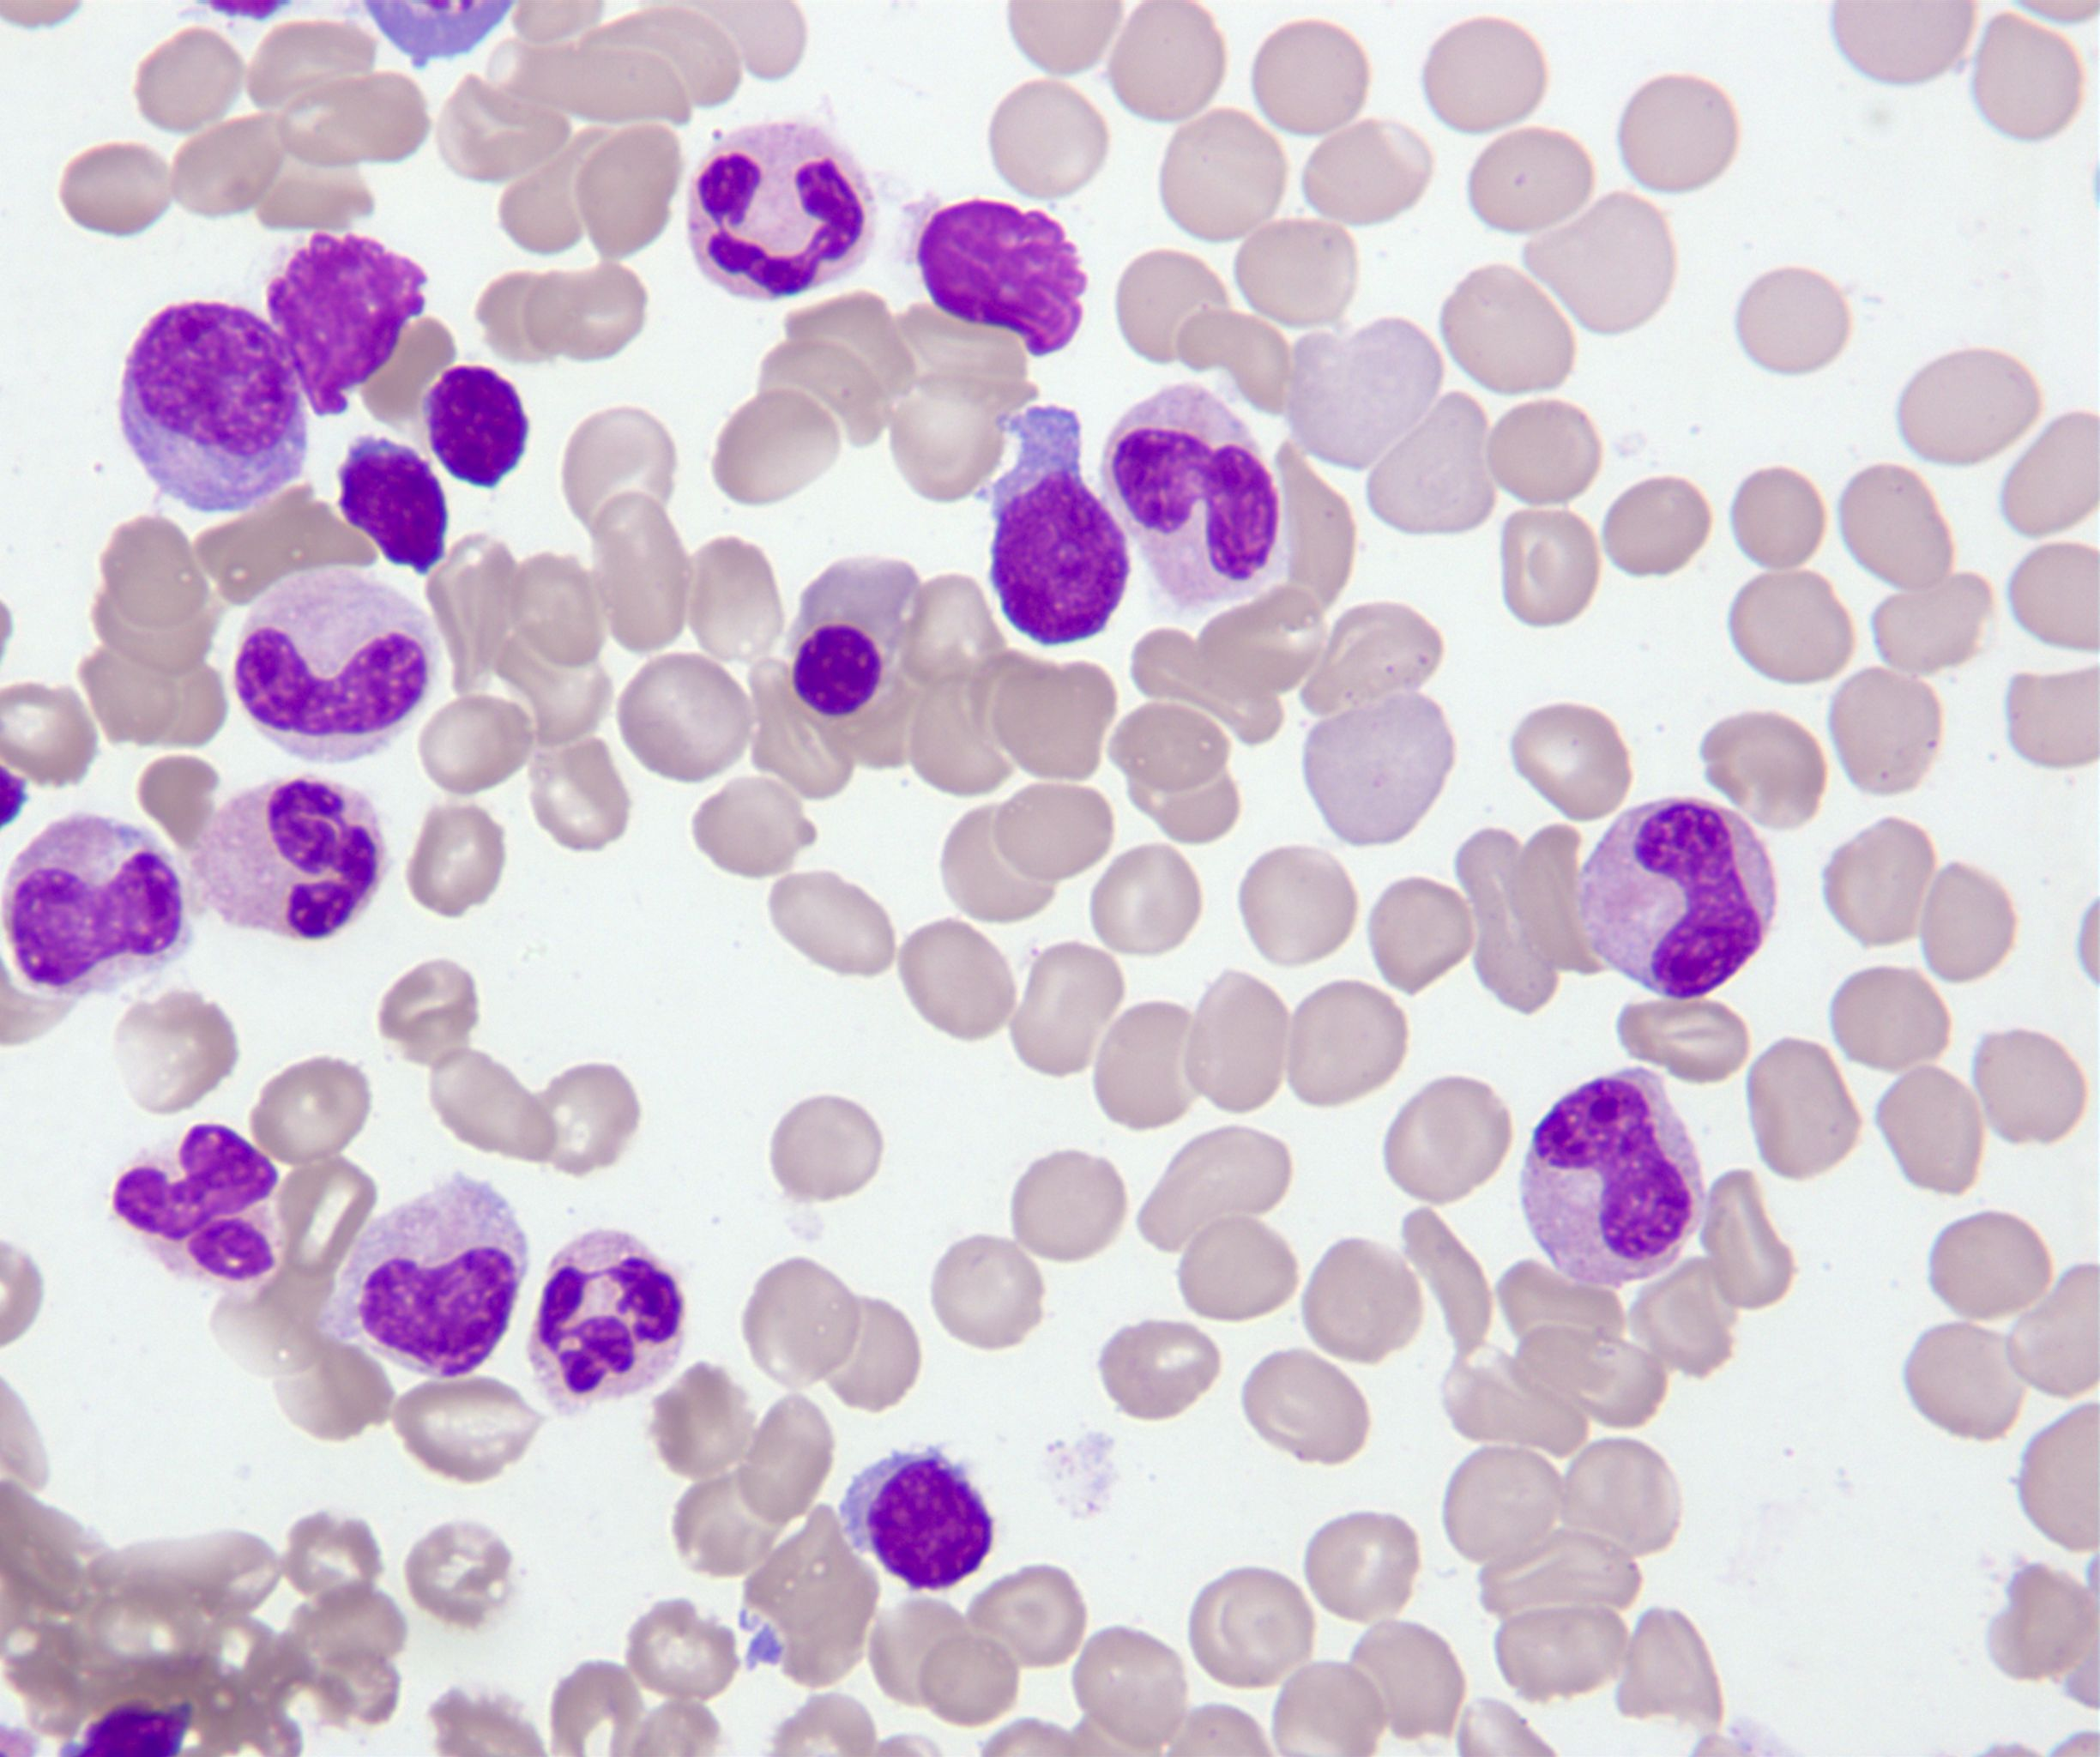24: (794, 625, 881, 717)
3: (120, 304, 309, 513)
32: (841, 1446, 991, 1593), (335, 433, 447, 576), (424, 366, 528, 487)
4: (317, 1172, 525, 1378), (1577, 799, 1777, 1002), (1101, 382, 1278, 609), (1521, 1068, 1702, 1286), (2, 817, 194, 998)
42: (989, 407, 1128, 644)
5: (232, 567, 436, 766)
6: (185, 776, 389, 940), (689, 122, 874, 300), (527, 1230, 682, 1417)
x: (267, 232, 427, 415), (113, 1124, 281, 1288), (917, 201, 1087, 359)
